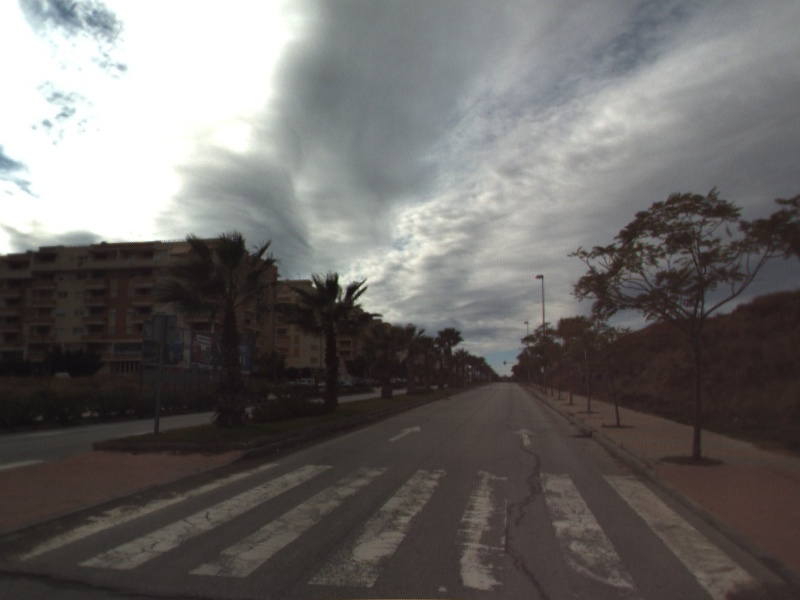STRAIGHT: (387, 423, 423, 443), (511, 425, 539, 447)
